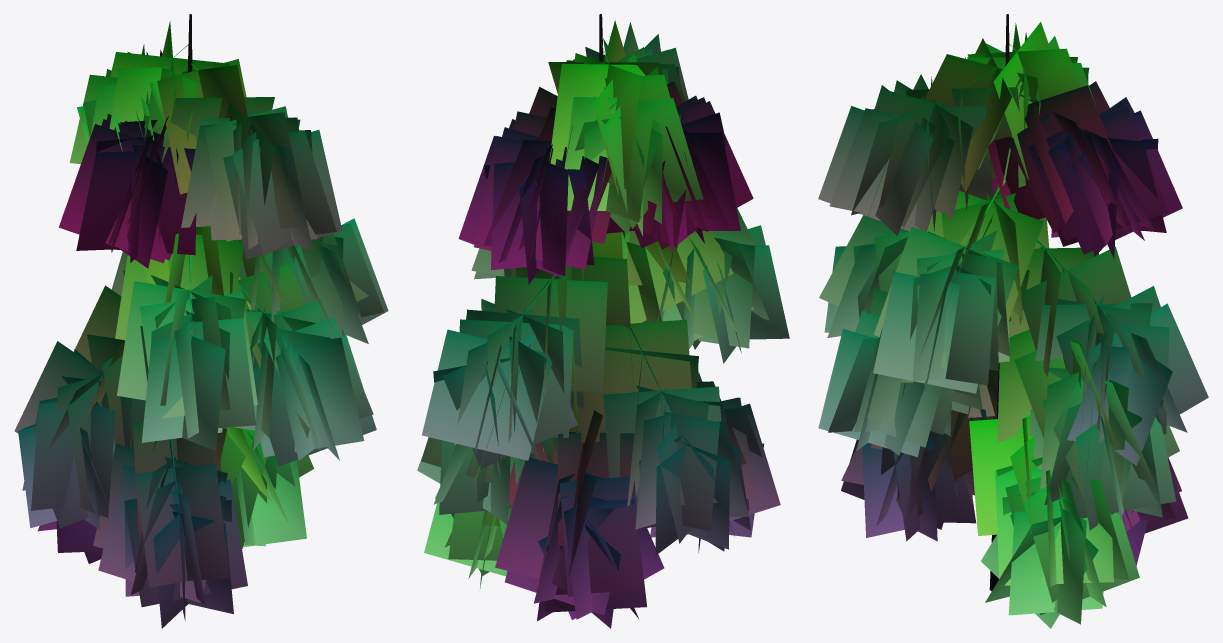
Rendered from URP_P13_Tree_9_LOD_3.fbx.
3 views of the same model, side by side, from view 1: azimuth 30°, elevation 25°; view 2: azimuth 150°, elevation 25°; view 3: azimuth 270°, elevation 25° (orthographic).
Parts seen in each view (by area): view 1: Tree_9_LOD_3; view 2: Tree_9_LOD_3; view 3: Tree_9_LOD_3.
Part boxes in pixels (x1=…): Tree_9_LOD_3: x1=14, y1=14, x2=388, y2=628; Tree_9_LOD_3: x1=417, y1=14, x2=789, y2=628; Tree_9_LOD_3: x1=818, y1=14, x2=1208, y2=628.
Size of the model in its own units: 348 by 622 by 381.
